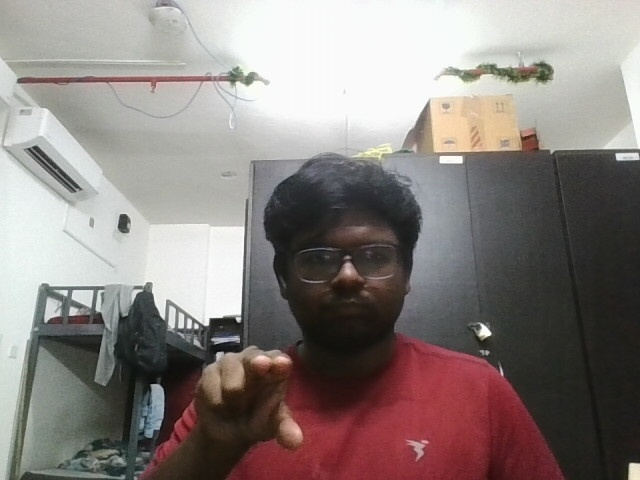No: (178, 329, 316, 466)
